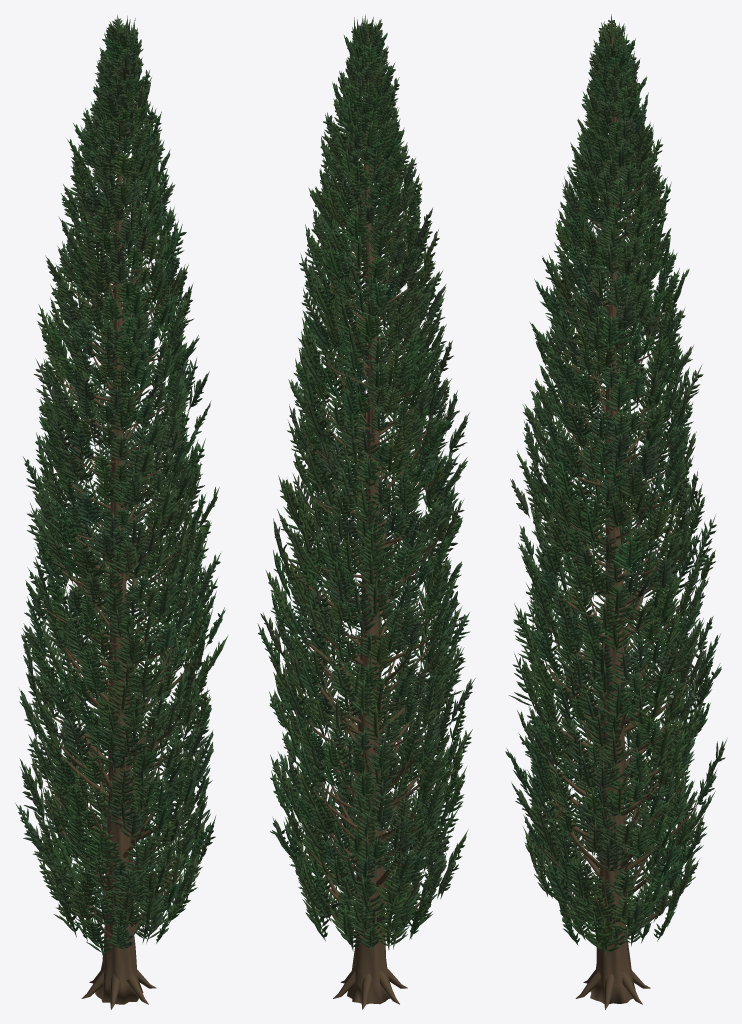
Rendered from cypres-2.glb.
The picture shows the model from 3 angles, left to right: view 1: azimuth 30°, elevation 25°; view 2: azimuth 150°, elevation 25°; view 3: azimuth 270°, elevation 25°; orthographic projection.
Parts seen in each view (by area): view 1: Folhagem_2, Tronco_e_ramos_1; view 2: Folhagem_2, Tronco_e_ramos_1; view 3: Folhagem_2, Tronco_e_ramos_1.
Boxes of the visible parts, x1=… form: Folhagem_2: x1=15, y1=14, x2=228, y2=956; Tronco_e_ramos_1: x1=34, y1=31, x2=209, y2=1009; Folhagem_2: x1=257, y1=14, x2=475, y2=951; Tronco_e_ramos_1: x1=288, y1=32, x2=450, y2=1009; Folhagem_2: x1=505, y1=14, x2=727, y2=956; Tronco_e_ramos_1: x1=529, y1=37, x2=698, y2=1009.
Bounding box in the file's own units: 1.15 × 6 × 1.24.
